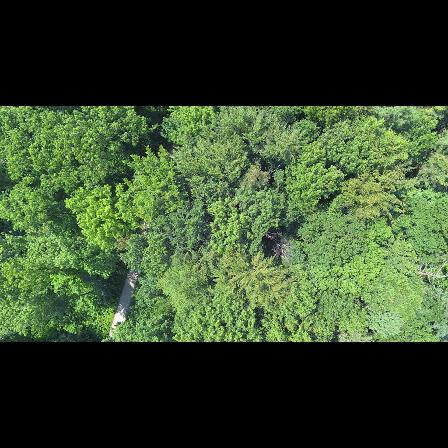Dead: (265, 221, 293, 259)
